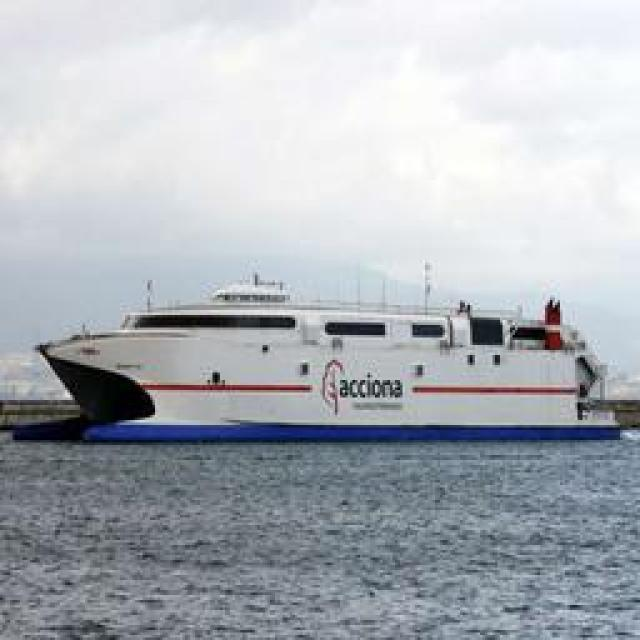ship2: (11, 261, 626, 447)
